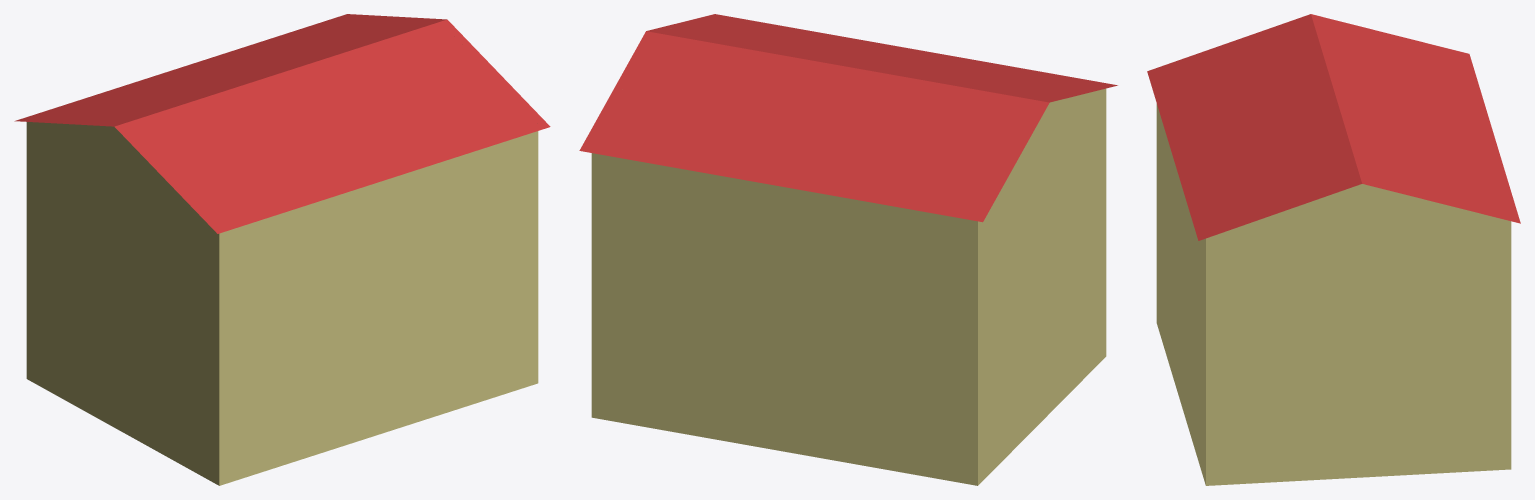
The picture shows the model from 3 angles, left to right: view 1: azimuth 30°, elevation 25°; view 2: azimuth 150°, elevation 25°; view 3: azimuth 270°, elevation 25°; orthographic projection. The views are drawn at different scales.
Size of the model in its own units: 12.82 by 10.82 by 9.5.
